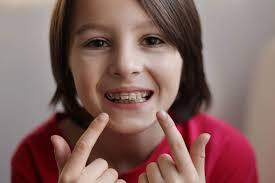Braces: (106, 92, 157, 105)
